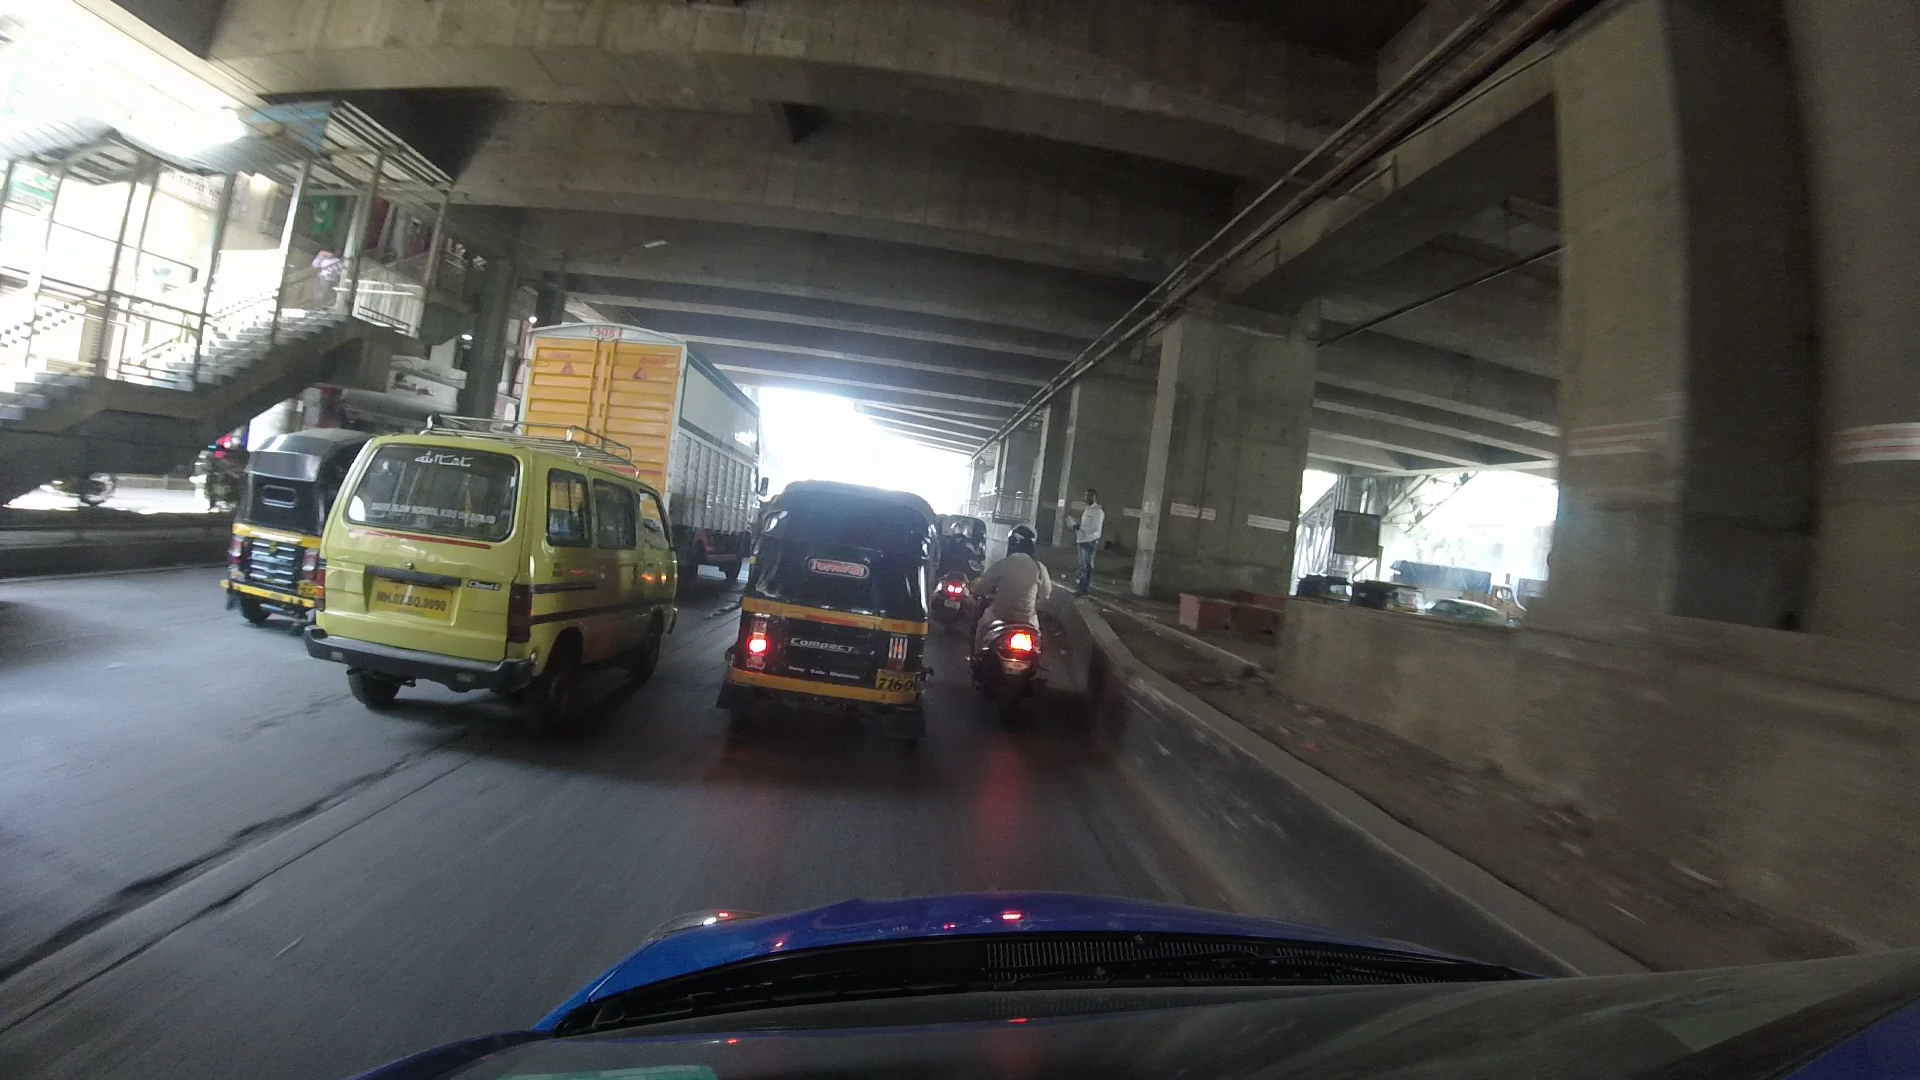bike/scooter: (969, 527, 1055, 702)
car: (311, 426, 678, 703)
rickshaw: (728, 473, 928, 724), (204, 436, 355, 613)
